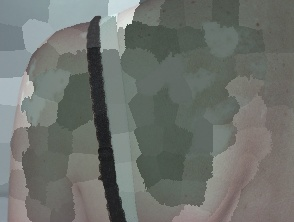vitiligo: (5, 54, 85, 157), (196, 16, 248, 64)
